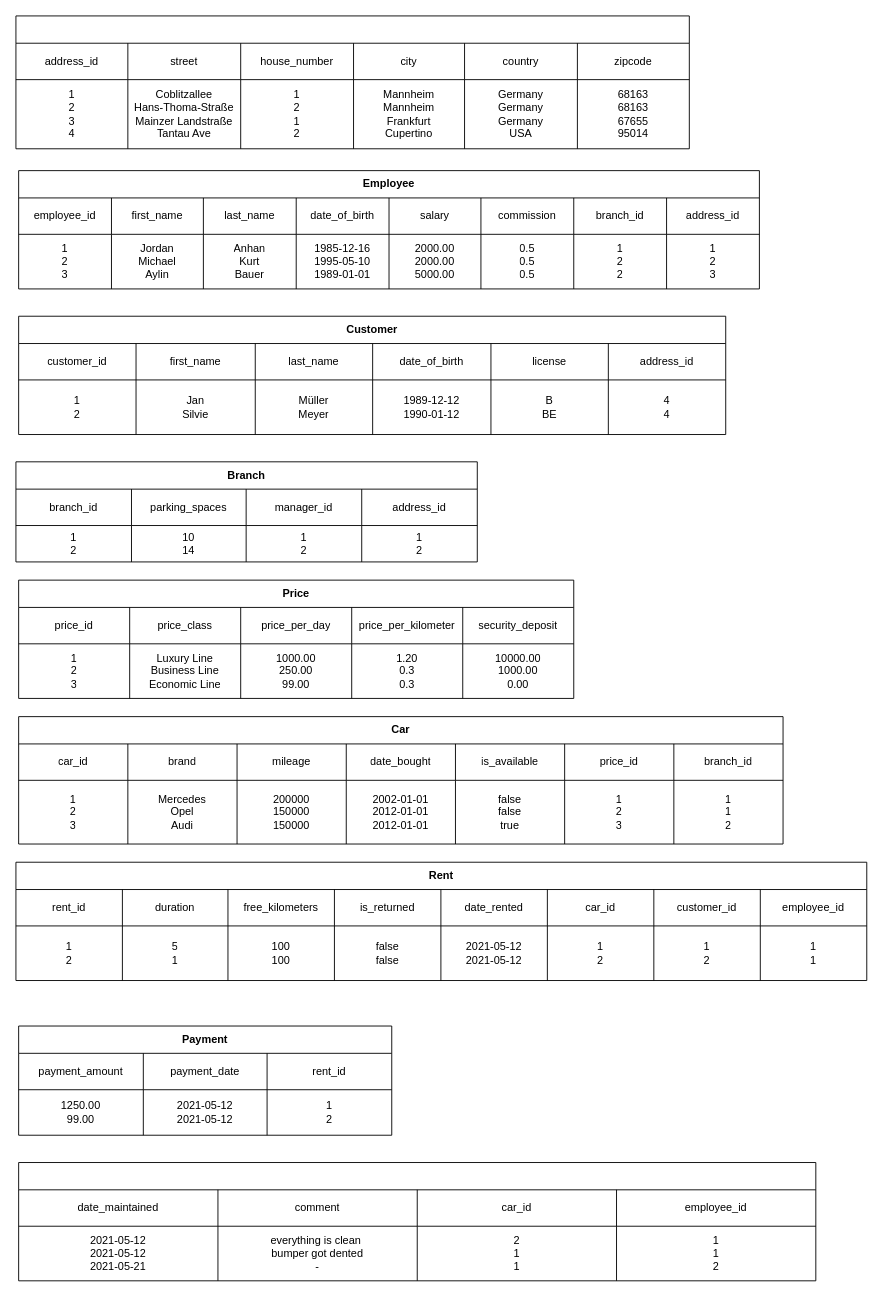
Image size: 883x1297. Some labels were removed from this diagram. Each missing label, with the box of its shape:
Addresses: (15, 15, 689, 149)
Maintains: (18, 1162, 816, 1281)
